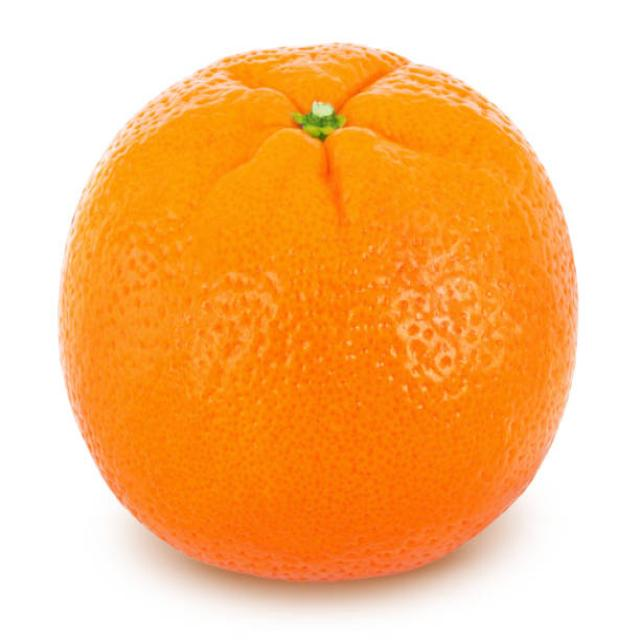Ripe: (51, 37, 586, 582)
